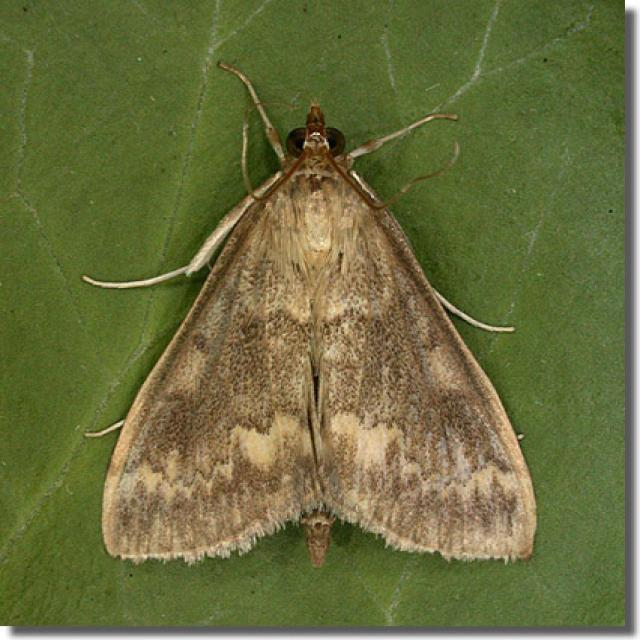cornborer-Adult-: (53, 46, 561, 576)
